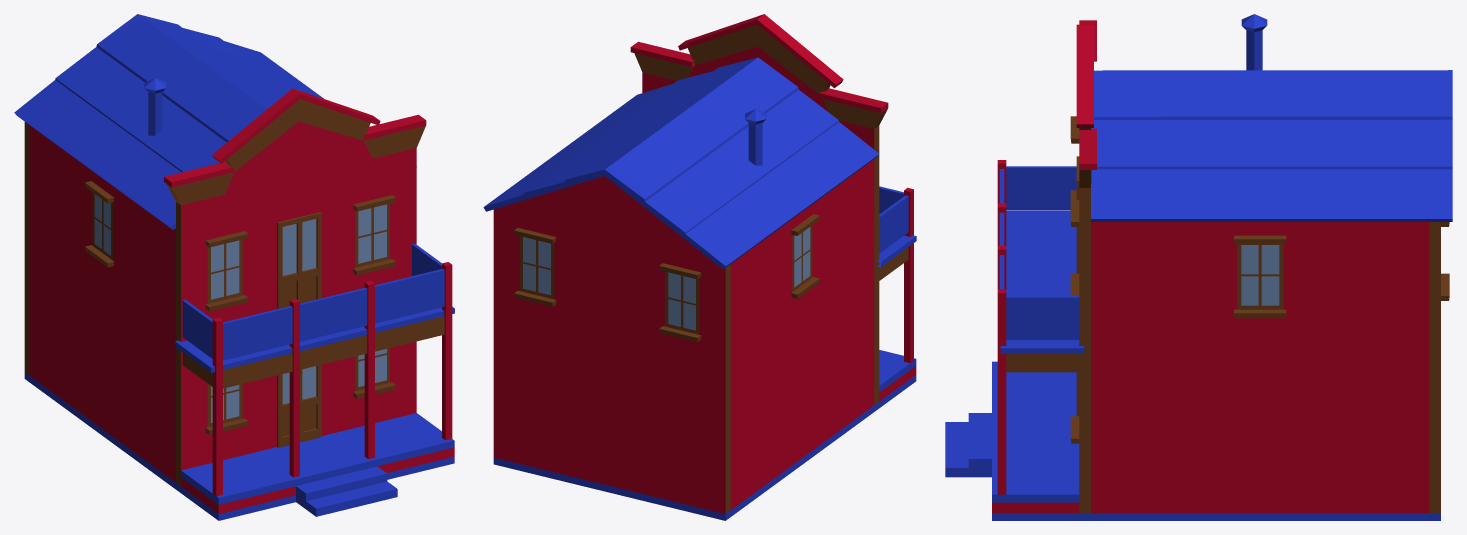
Rendered from house2.fbx.
3 views of the same model, side by side, from view 1: azimuth 30°, elevation 25°; view 2: azimuth 150°, elevation 25°; view 3: azimuth 270°, elevation 25° (orthographic). The views are drawn at different scales.
Parts seen in each view (by area): view 1: hotel-western; view 2: hotel-western; view 3: hotel-western.
Boxes of the visible parts, x1,y1,x2,y2 form: hotel-western: (14,14,454,520); hotel-western: (483,14,916,520); hotel-western: (945,14,1452,520).
Bounding box in the file's own units: 583 × 813 × 870.
